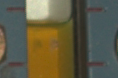border: (5, 5, 28, 14), (82, 6, 107, 14), (84, 60, 108, 68), (6, 61, 29, 68)
liquidlevel: (25, 15, 75, 32)
